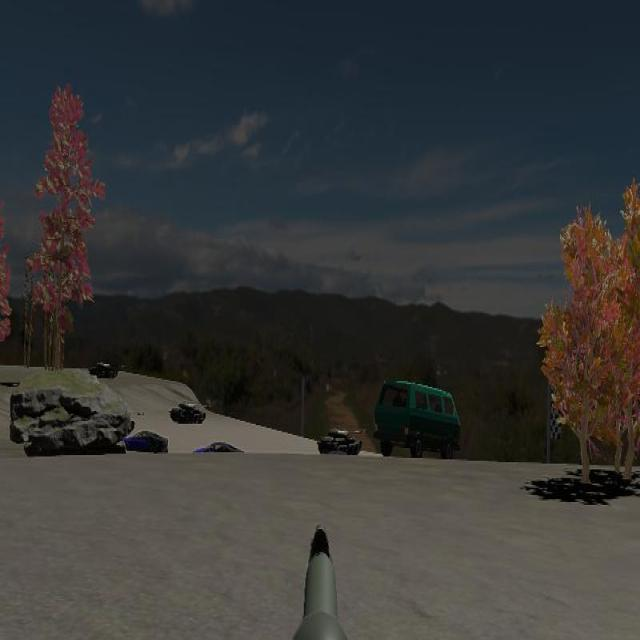car: (374, 378, 460, 460), (374, 379, 460, 459)
